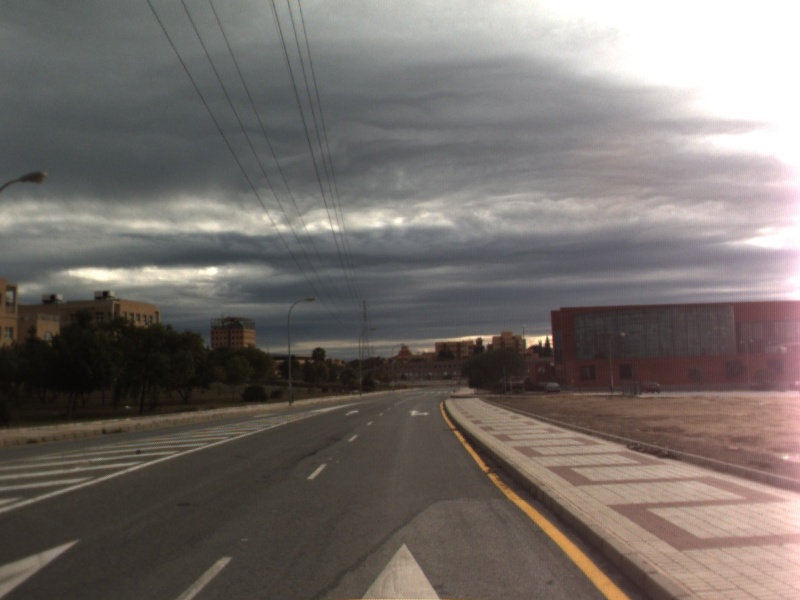STRAIGHT: (343, 408, 360, 417)
STRAIGHT_RIGHT: (406, 408, 432, 419)
